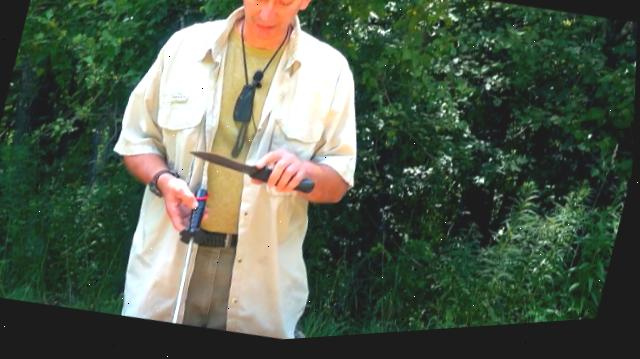pocket-knife: (182, 141, 330, 211)
